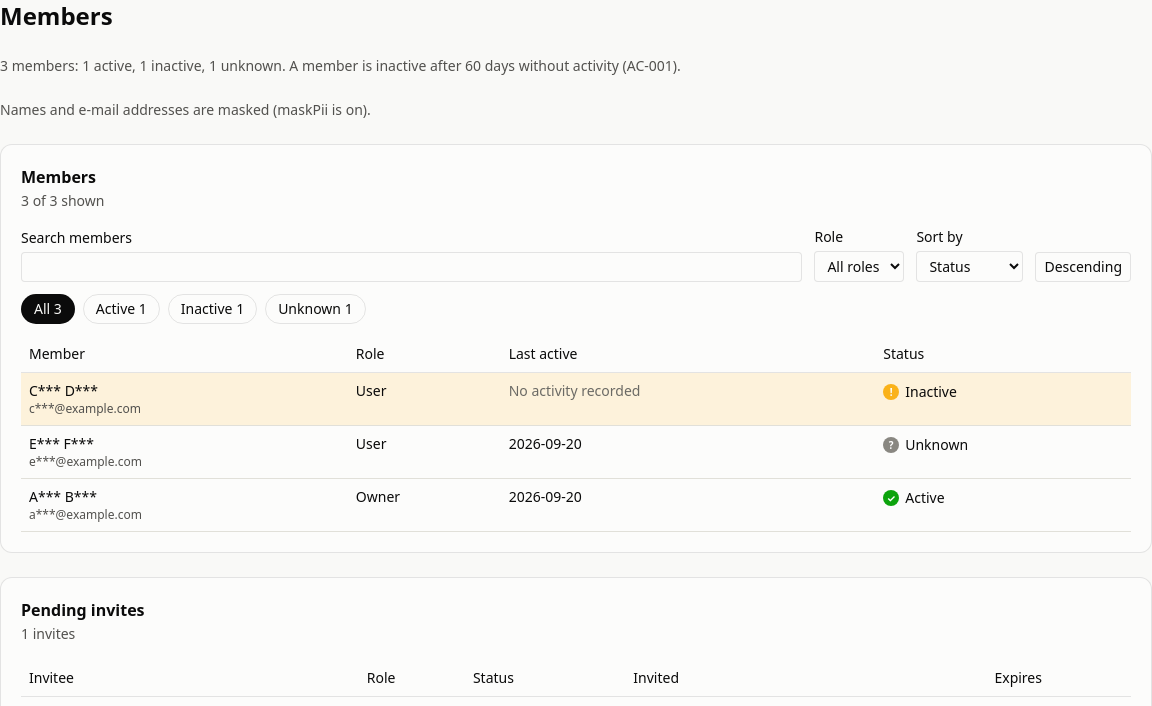
Members page › filters by status, role and search text
Expected: the table named "Members" is shown, x1=21 y1=336 x2=1131 y2=532
Step 1. Click the button "Inactive 1" → coordinates (212, 309), box x1=168 y1=294 x2=257 y2=324
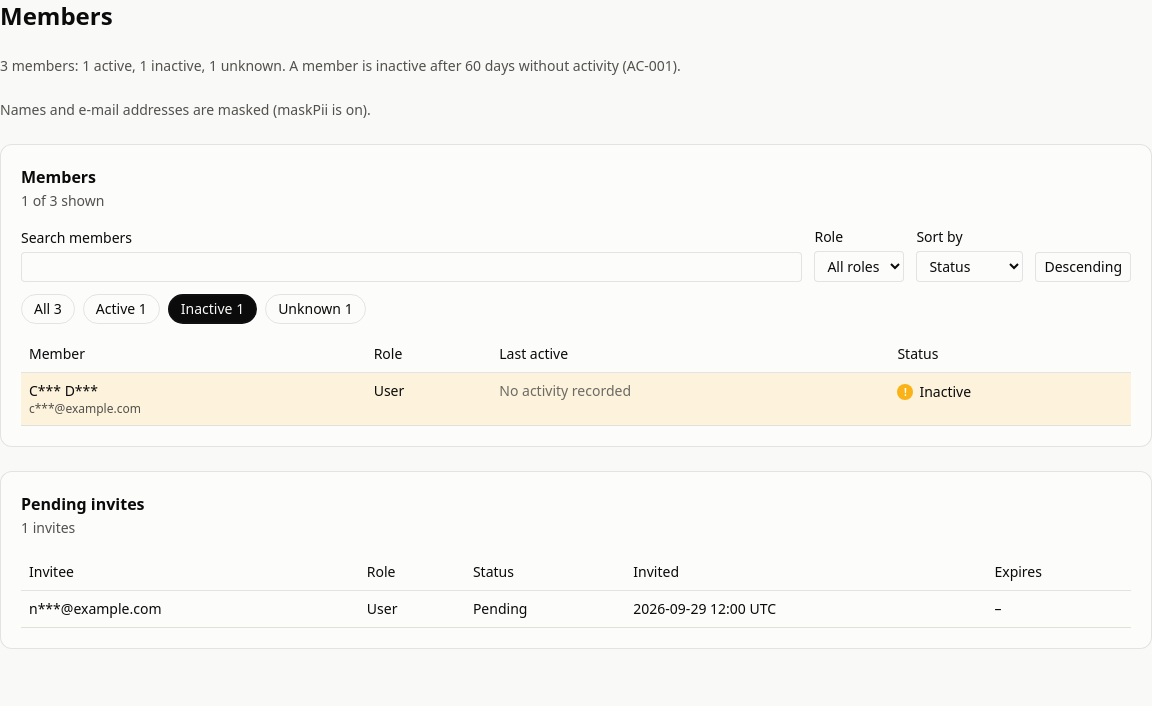
Step 2. Click the button "All 3" → coordinates (48, 309), box x1=21 y1=294 x2=75 y2=324
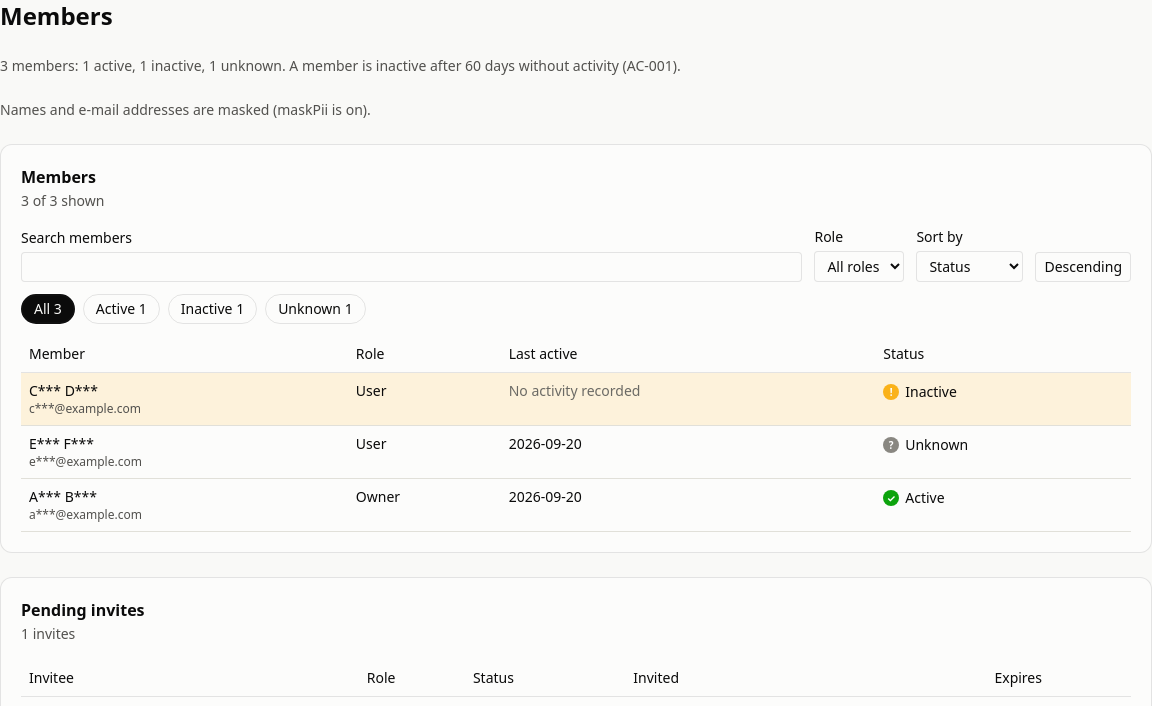
Step 3. Select "Owner" in the dropdown labelled "Role" → coordinates (859, 266), box x1=814 y1=251 x2=904 y2=282
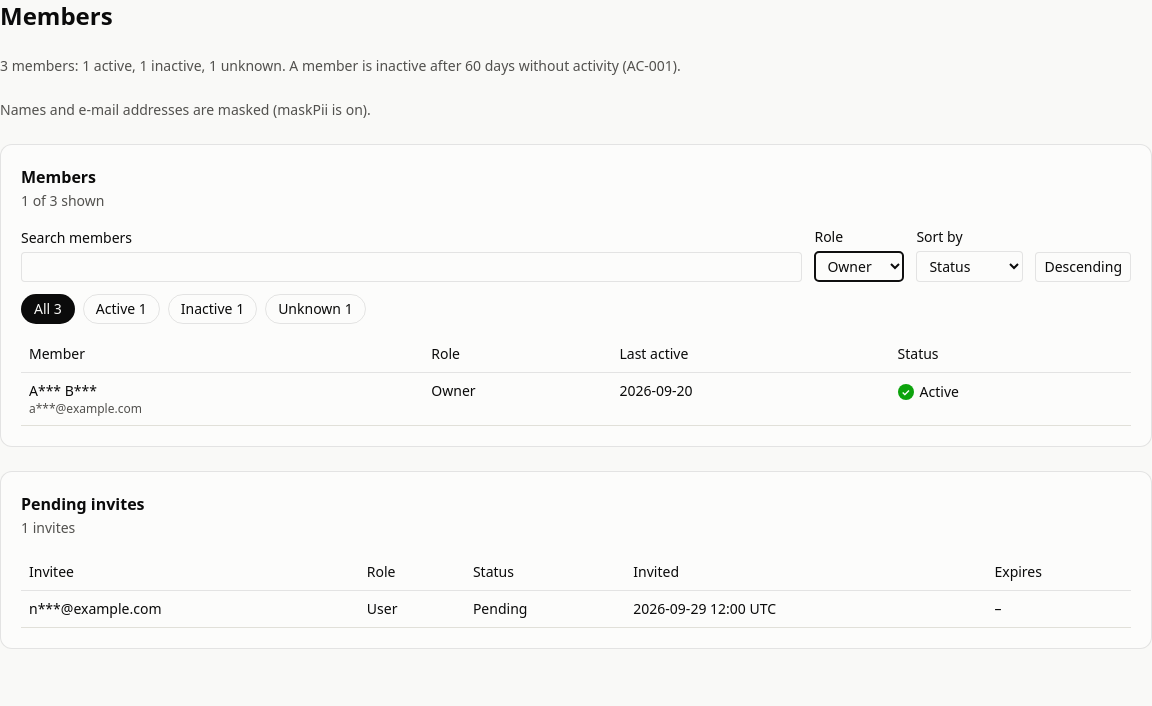
Result: the column heading "A*** B***" is shown at x1=29 y1=381 x2=97 y2=400
Result: the column heading "C*** D***" is gone
Step 4. Select "All roles" in the dropdown labelled "Role" → coordinates (859, 266), box x1=814 y1=251 x2=904 y2=282
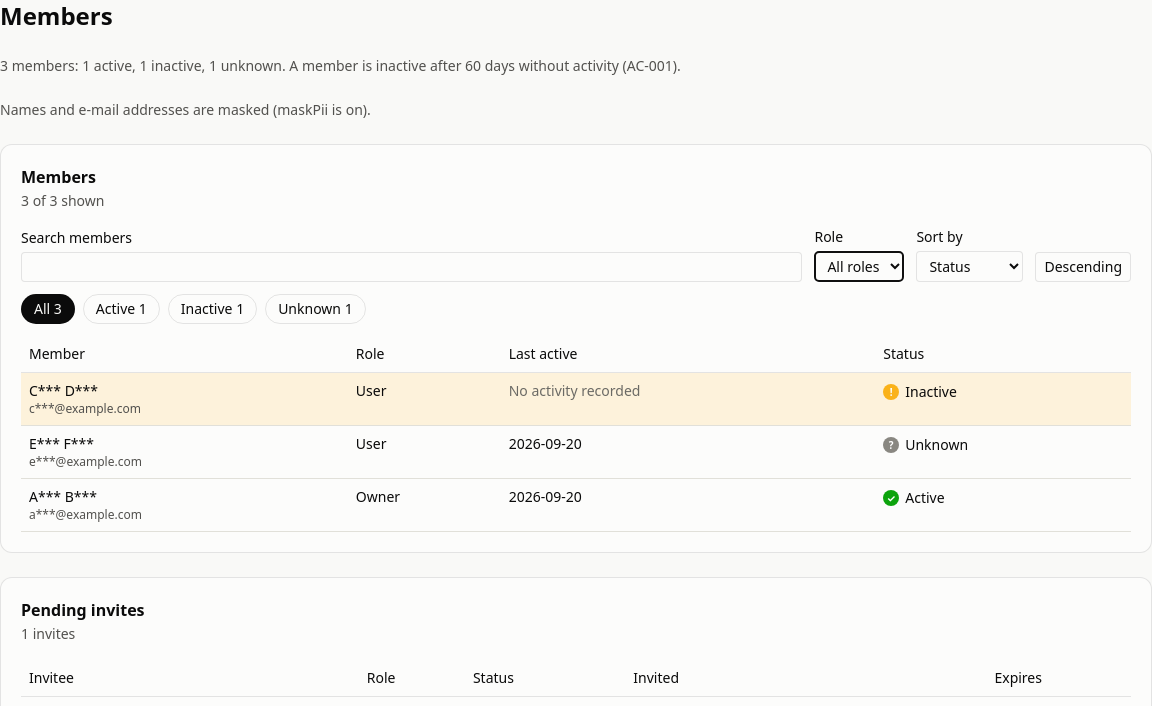
Step 5. Type "nobody" into the search field labelled "Search members" → coordinates (412, 267), box x1=21 y1=252 x2=802 y2=282
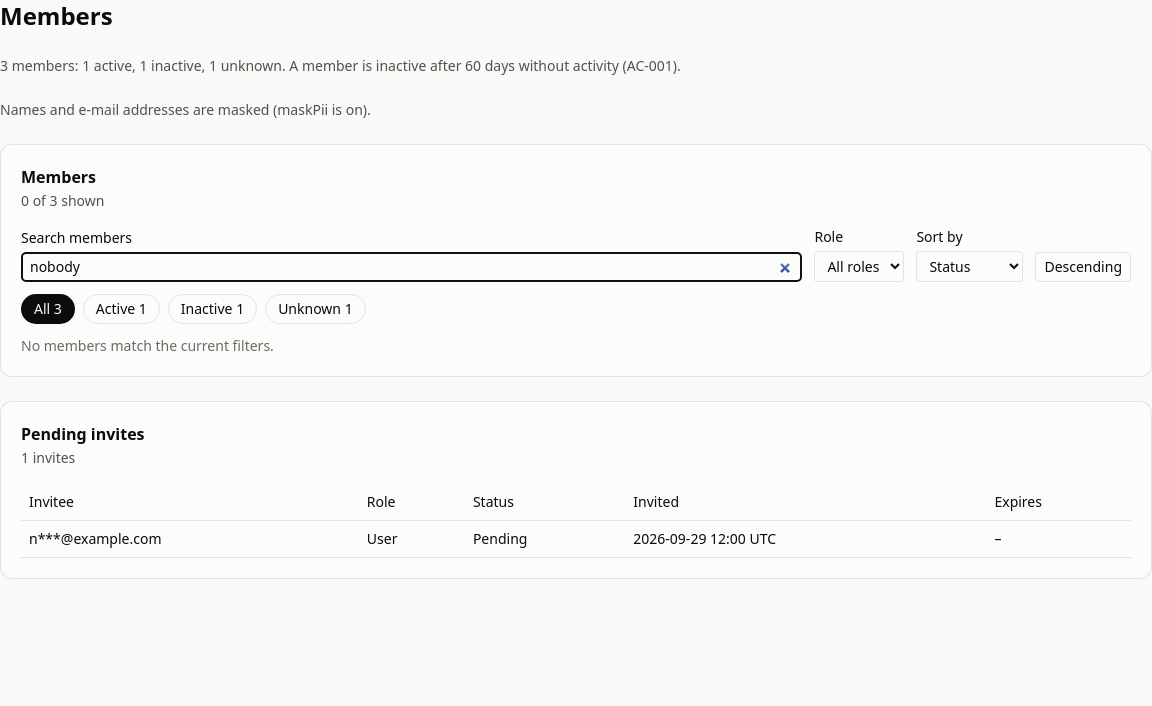
Result: the text "No members match the current filters." is shown at x1=21 y1=336 x2=274 y2=355
